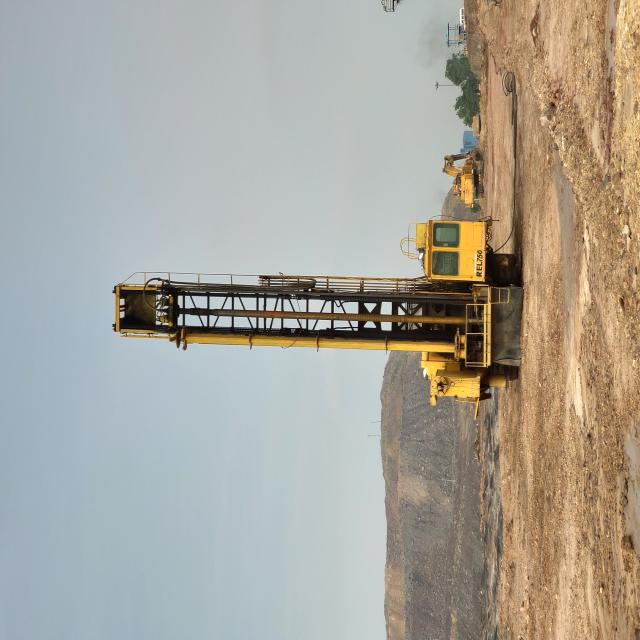excavator: (320, 596, 366, 640)
